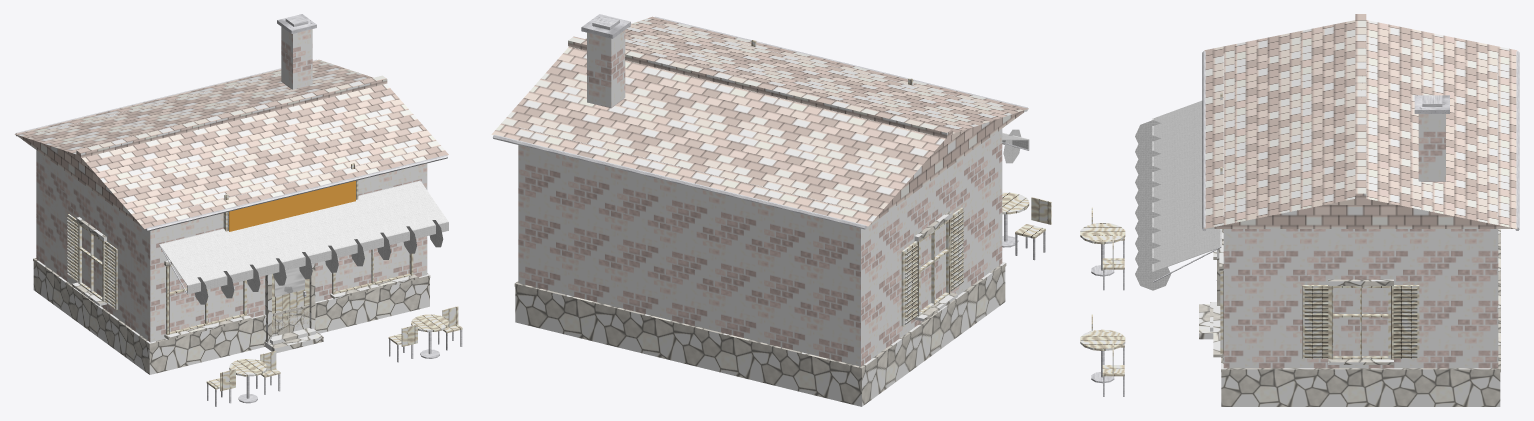
The model's file is bar.obj.
3 views of the same model, side by side, from view 1: azimuth 30°, elevation 25°; view 2: azimuth 150°, elevation 25°; view 3: azimuth 270°, elevation 25° (orthographic). The views are drawn at different scales.
Parts seen in each view (by area): view 1: tegole_002, mattone_000, pietra_001, tessuto_010, tessuto_011, liscio_009, mattone_004, metallo_003, legno_035, legno_013, legno_014, metallo_006 (+10 smaller); view 2: mattone_000, tegole_002, pietra_001, mattone_004, metallo_003, legno_035, legno_033, metallo_006, legno_013, pietra_034, tessuto_010, cemento_005 (+1 smaller); view 3: tegole_002, mattone_000, pietra_001, tessuto_011, tessuto_010, legno_031, mattone_004, legno_012, metallo_003, legno_029, metallo_006, pietra_030 (+4 smaller).
Boxes of the visible parts, x1,y1,x2,y2 form: tegole_002: (15, 59, 448, 229); mattone_000: (36, 73, 427, 342); pietra_001: (33, 258, 430, 374); tessuto_010: (159, 187, 422, 304); tessuto_011: (185, 180, 448, 298); liscio_009: (229, 181, 355, 231); mattone_004: (281, 27, 312, 89); metallo_003: (16, 59, 447, 231); legno_035: (67, 214, 117, 309); legno_013: (206, 306, 462, 391); legno_014: (272, 274, 309, 335); metallo_006: (159, 15, 462, 406); mattone_000: (518, 24, 1002, 366); tegole_002: (491, 16, 1028, 226); pietra_001: (514, 262, 1006, 406); mattone_004: (587, 30, 625, 108); metallo_003: (492, 16, 1027, 229); legno_035: (901, 207, 963, 326); legno_033: (917, 219, 950, 316); metallo_006: (592, 15, 1045, 260); legno_013: (1015, 197, 1051, 238); pietra_034: (914, 211, 957, 321); tessuto_010: (1002, 129, 1029, 163); cemento_005: (581, 14, 630, 38); tegole_002: (1204, 14, 1517, 228); mattone_000: (1223, 54, 1498, 368); pietra_001: (1221, 229, 1500, 406); tessuto_011: (1135, 116, 1221, 290); tessuto_010: (1135, 100, 1221, 266); legno_031: (1302, 285, 1419, 358); mattone_004: (1418, 114, 1445, 181); legno_012: (1080, 223, 1125, 350); metallo_003: (1202, 51, 1519, 230); legno_029: (1330, 286, 1391, 359); metallo_006: (1091, 95, 1442, 396); pietra_030: (1328, 279, 1393, 364).
Size of the model in its own units: 7.74 by 5.64 by 8.
25 materials, 24 textured.
